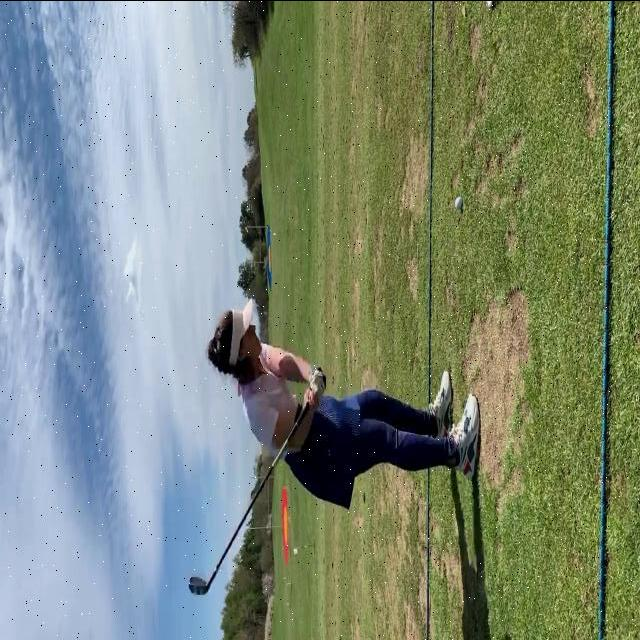golf club-handle: (186, 397, 313, 595)
golf club-head: (187, 572, 209, 593)
